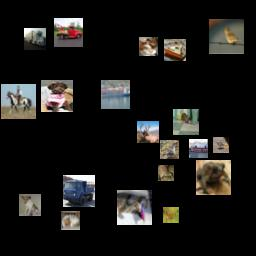bird: (209, 19, 244, 54), (160, 140, 179, 159), (213, 137, 229, 153), (158, 165, 174, 181)
cat: (117, 190, 152, 225), (173, 109, 199, 135), (61, 211, 80, 230), (139, 37, 158, 56)
deer: (137, 121, 159, 143), (163, 207, 179, 223)
dog: (41, 80, 73, 112), (19, 194, 41, 216)
frog: (196, 160, 231, 195)
ship: (101, 80, 130, 109), (164, 39, 186, 61)
truck: (63, 175, 95, 207), (54, 18, 83, 47), (24, 28, 46, 50), (189, 139, 208, 158)
